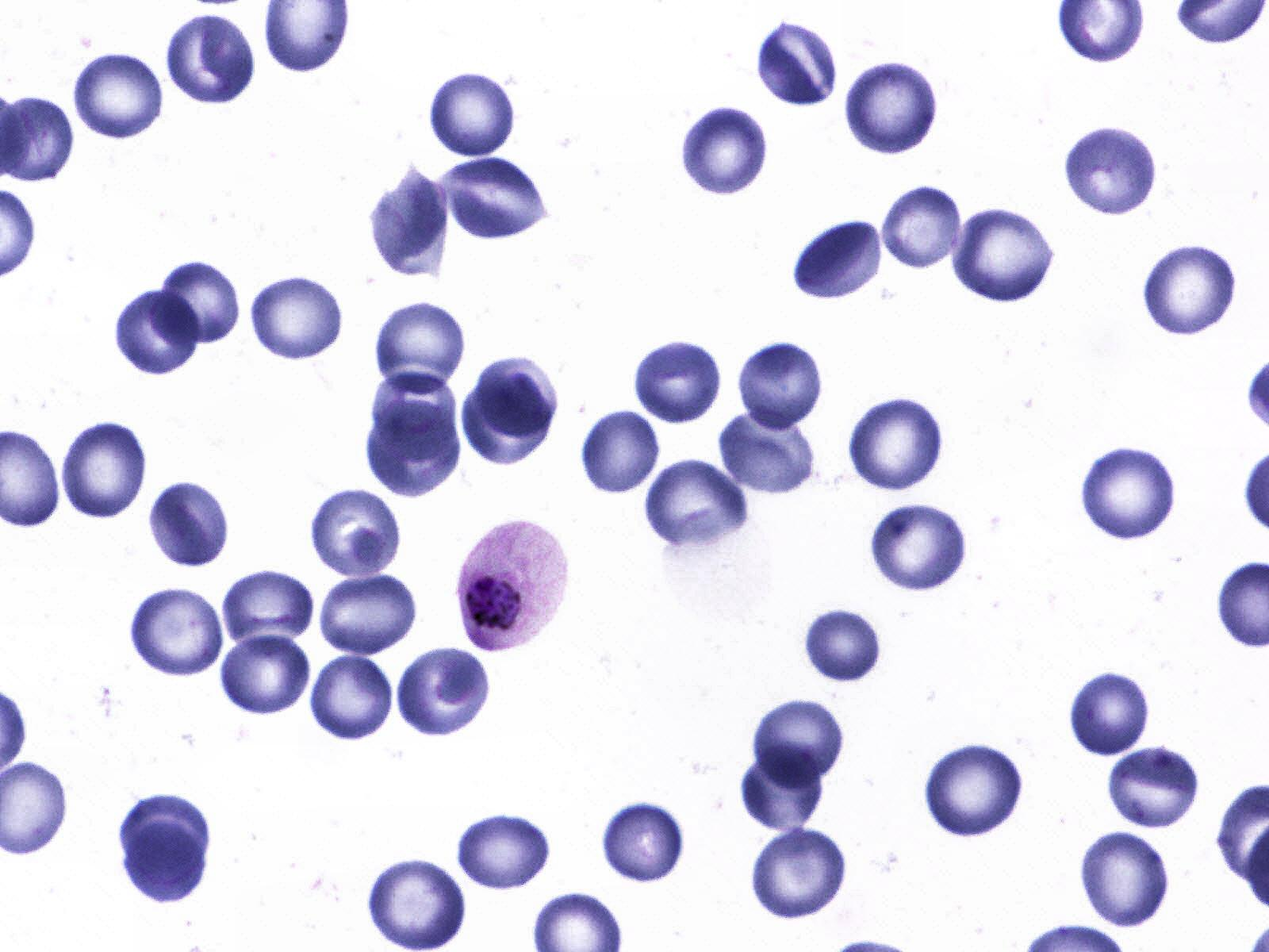Infected: (457, 514, 569, 651)
Uninfected: (362, 855, 473, 949), (1079, 443, 1183, 542), (641, 458, 750, 552), (845, 394, 948, 492), (842, 56, 942, 156), (367, 161, 452, 278), (60, 417, 152, 524), (439, 156, 550, 244), (1078, 829, 1172, 931), (163, 11, 259, 109), (950, 209, 1052, 301), (399, 644, 495, 741), (869, 501, 968, 594), (1062, 126, 1162, 218), (753, 826, 849, 921), (130, 585, 226, 680), (305, 488, 408, 576), (1142, 244, 1241, 335), (367, 399, 462, 493), (247, 276, 352, 359), (427, 66, 521, 158), (927, 747, 1025, 835), (372, 304, 467, 394), (75, 49, 164, 143), (1106, 744, 1204, 828), (312, 574, 416, 653), (717, 407, 812, 493), (752, 700, 844, 788), (222, 570, 318, 654), (455, 809, 552, 892), (153, 259, 243, 346), (371, 370, 457, 461), (309, 652, 393, 745), (465, 378, 553, 466), (681, 106, 765, 198), (113, 290, 198, 380), (634, 342, 726, 425), (150, 482, 236, 570), (121, 795, 209, 881), (738, 342, 822, 432), (742, 747, 829, 833), (1068, 670, 1152, 758), (880, 186, 964, 274), (220, 635, 311, 716), (792, 219, 884, 298), (581, 412, 666, 497), (756, 22, 838, 105), (477, 357, 558, 437), (125, 820, 204, 902), (604, 805, 688, 882), (805, 608, 884, 685)
